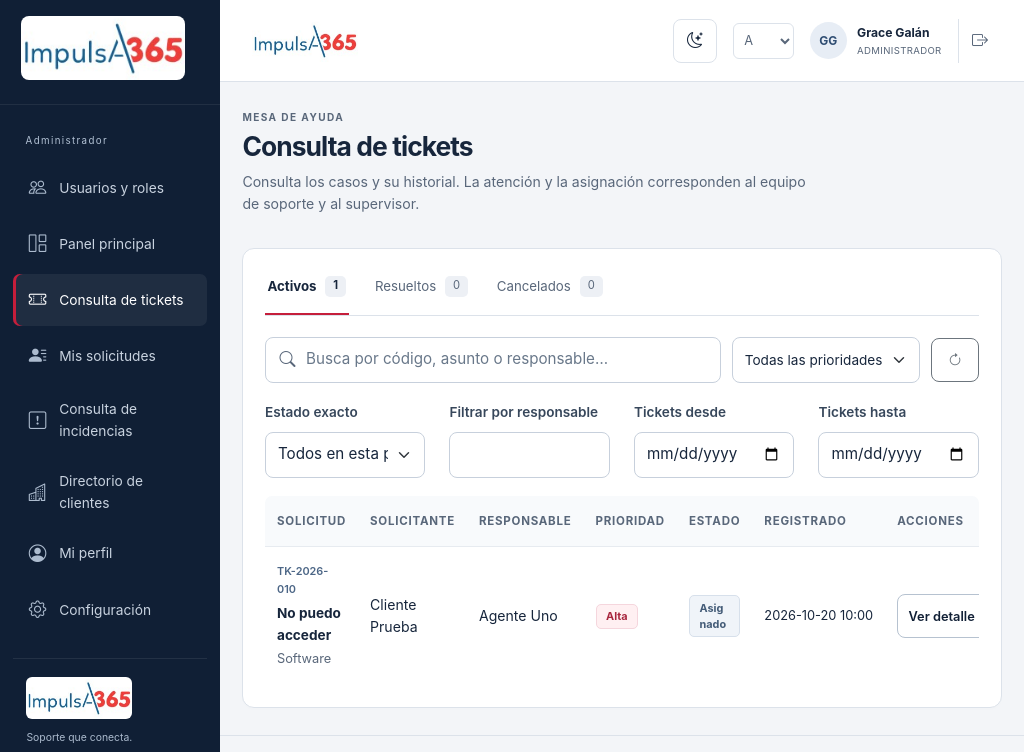
Test case: Funciones por rol › el administrador consulta la auditoría sin sustituir al supervisor ni al agente
Click the button "Ver detalle" at (952, 616), box [897, 594, 1008, 638]
(page scrolled)
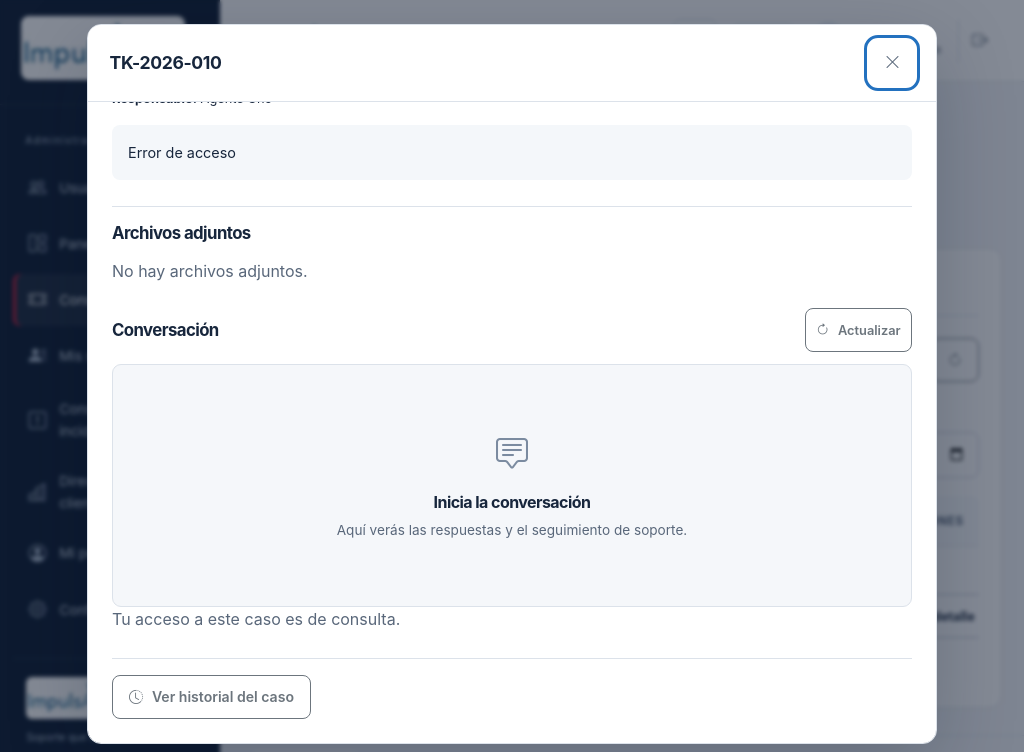
Check: the button "Ver historial del caso" is shown, box [112, 675, 311, 719]
